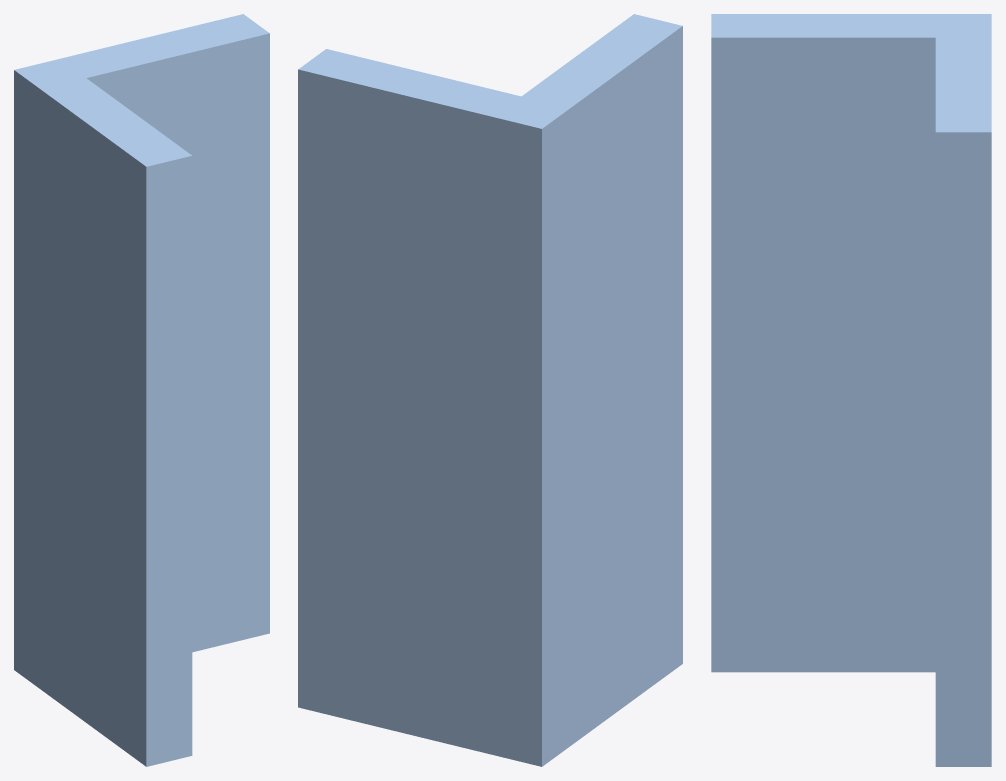
The model's file is SM_WallCorner_Out_1x2_01a.glb.
The picture shows the model from 3 angles, left to right: view 1: azimuth 30°, elevation 25°; view 2: azimuth 150°, elevation 25°; view 3: azimuth 270°, elevation 25°; orthographic projection. The views are drawn at different scales.
Parts seen in each view (by area): view 1: SM_WallCorner_Out_1x2_01a; view 2: SM_WallCorner_Out_1x2_01a; view 3: SM_WallCorner_Out_1x2_01a.
Part boxes in pixels (x1,y1,x2,y2): SM_WallCorner_Out_1x2_01a: [14, 14, 269, 766]; SM_WallCorner_Out_1x2_01a: [298, 14, 682, 766]; SM_WallCorner_Out_1x2_01a: [711, 14, 991, 766].
Size of what is drawn, in the model's own units: 1 by 2.5 by 1.
